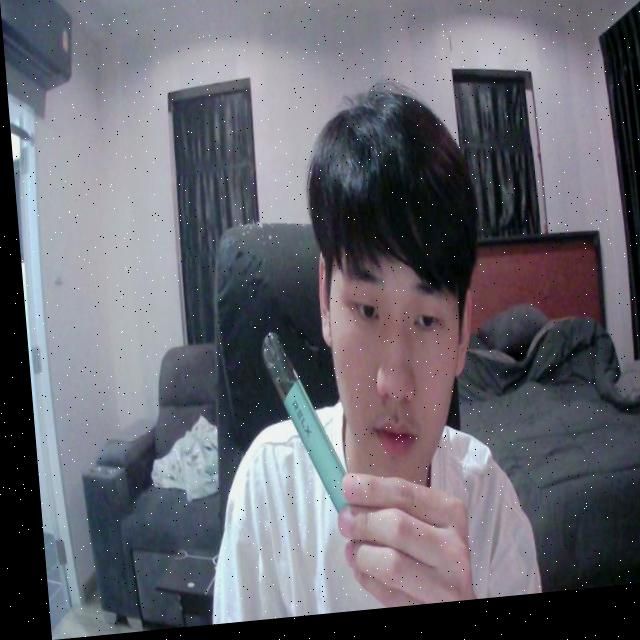vape: (253, 332, 341, 523)
